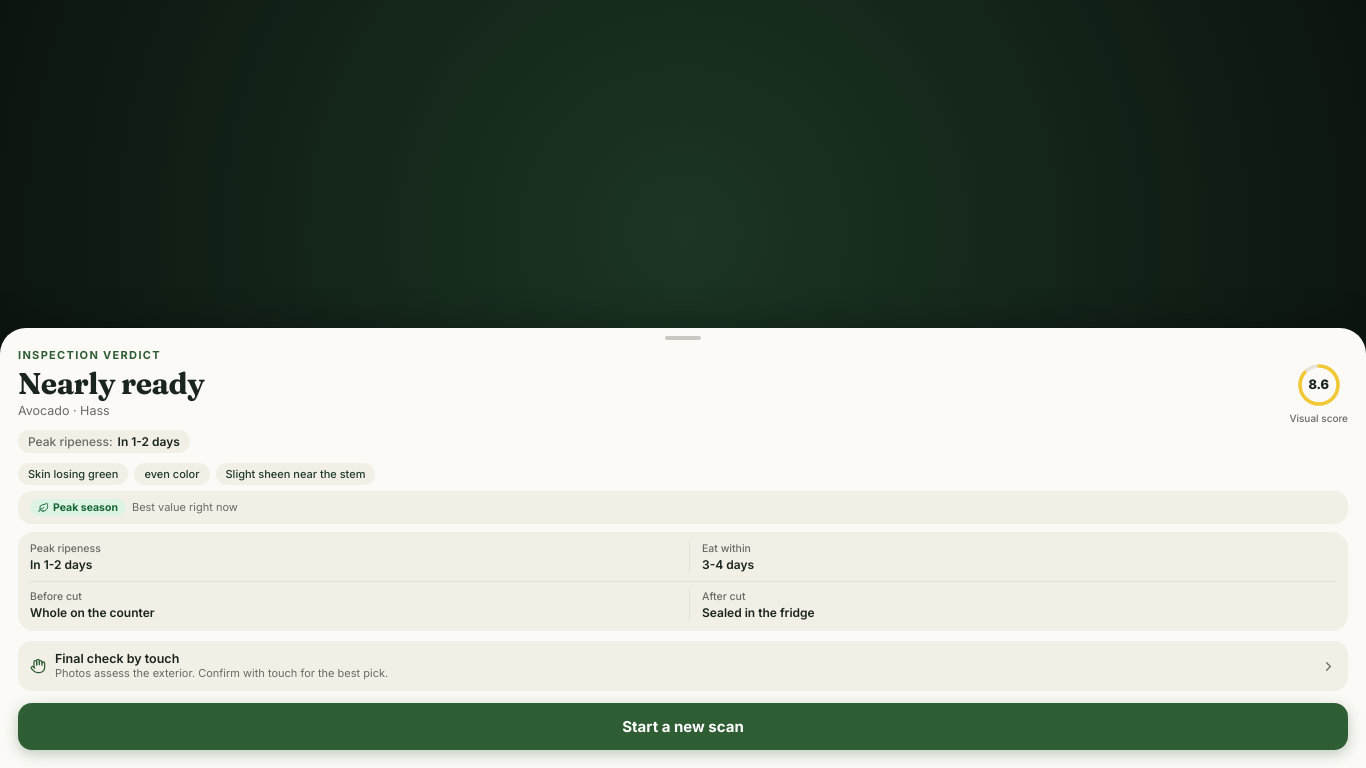
Scenario: DeepScanResultStage › renders collapsible tactile checks in expanded content on confident verdict
The image size is (1366, 768).
(page scrolled)
Expected: the element with test id "ds-confident-tactile-checks" is shown, [18,641,1348,691]
Click the button with test id "ds-confident-tactile-checks-toggle" at (117, 659), box [30,651,1336,681]
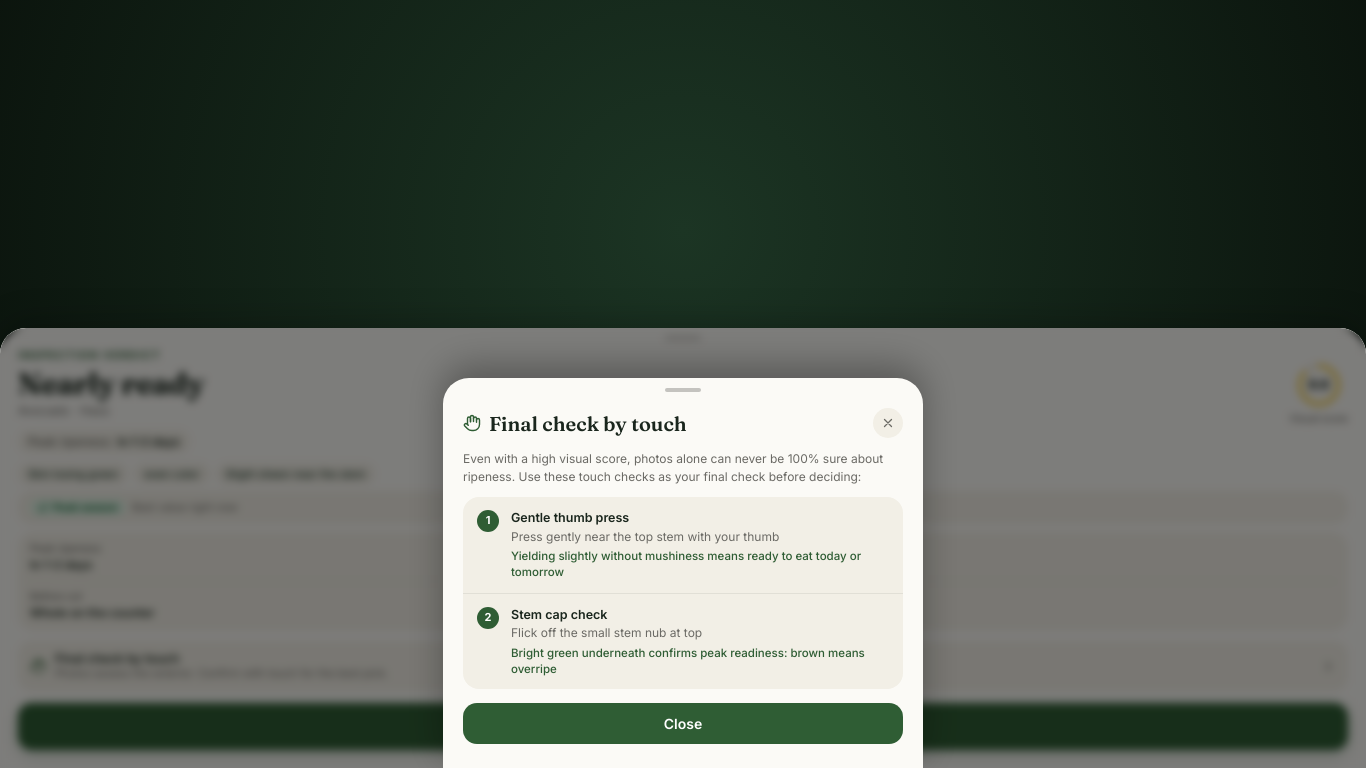
Result: the button with test id "ds-confident-tactile-checks-toggle" is expanded at [30,651,1336,681]
Result: the list with test id "ds-confident-tactile-checks-list" is shown at [463,497,903,689]
Result: the list with test id "ds-confident-tactile-checks-list" shows "Gentle thumb press" at [511,510,629,525]
